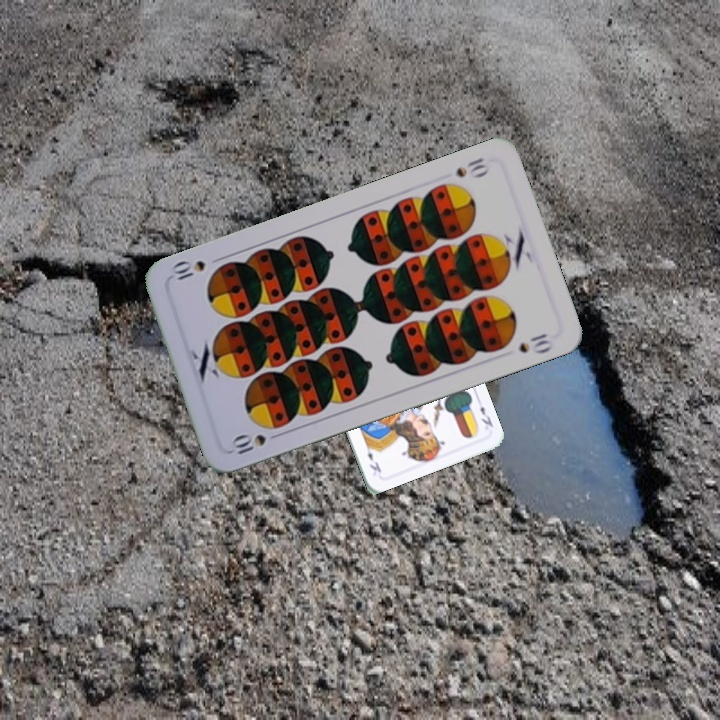EK: (476, 402, 496, 430)
S10: (227, 428, 285, 458), (451, 153, 487, 180)
